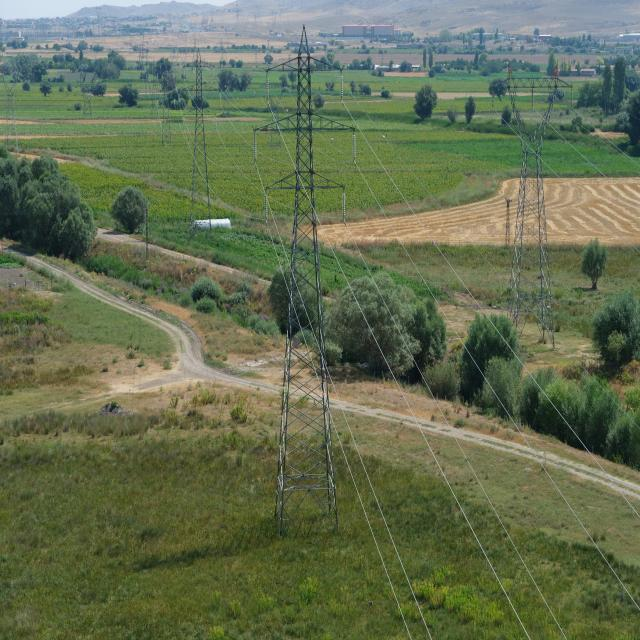direk: (271, 34, 338, 524), (498, 70, 566, 358), (186, 45, 214, 238)
